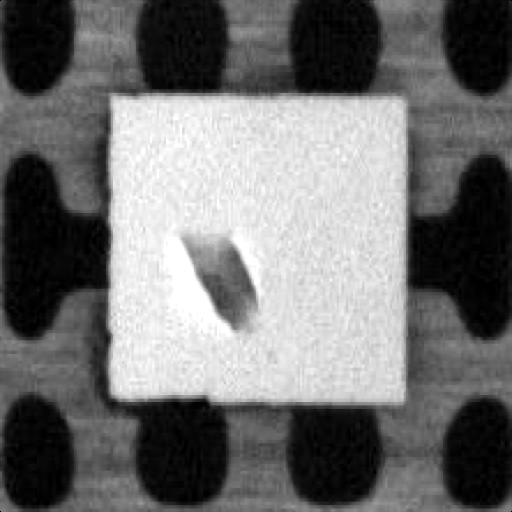DIE_INK: (173, 220, 251, 326)
